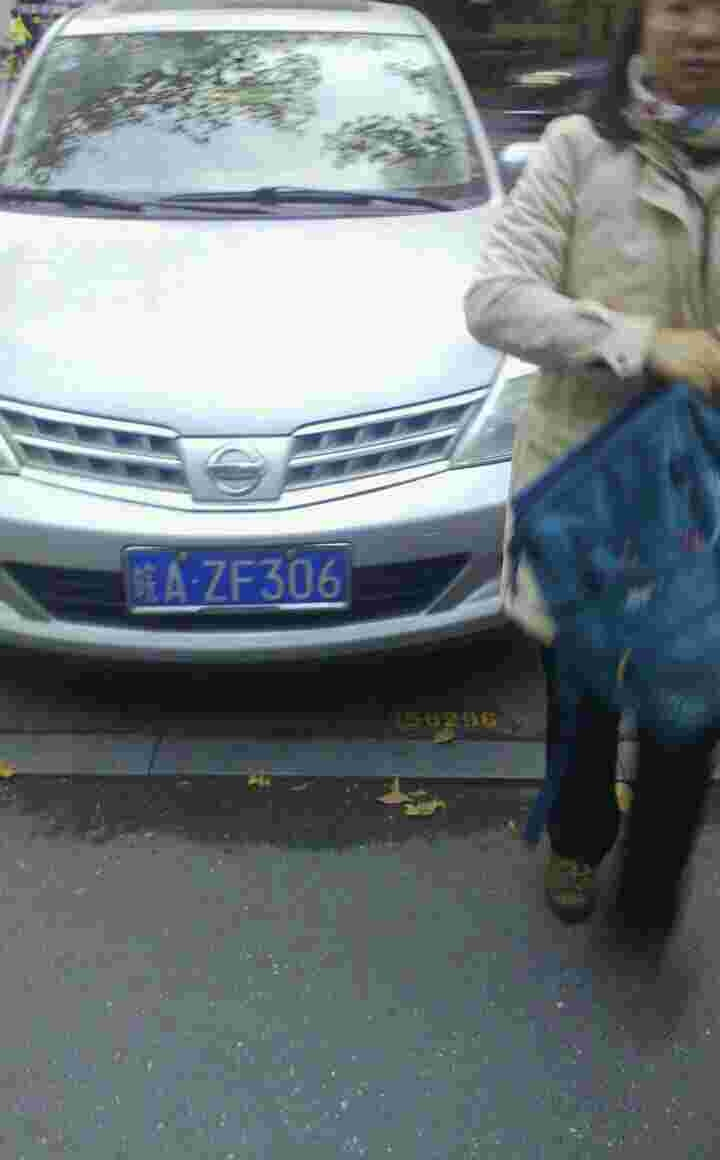license_plate: (121, 538, 349, 619)
